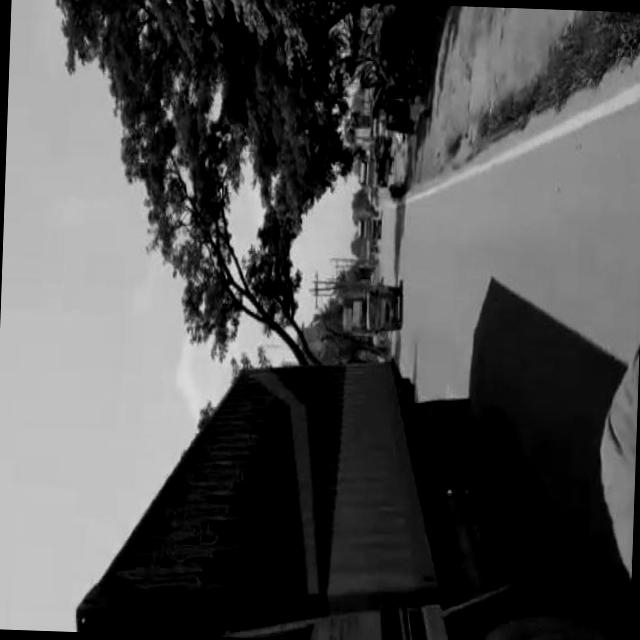truck: (75, 357, 616, 640), (364, 278, 400, 328), (357, 212, 379, 237)
